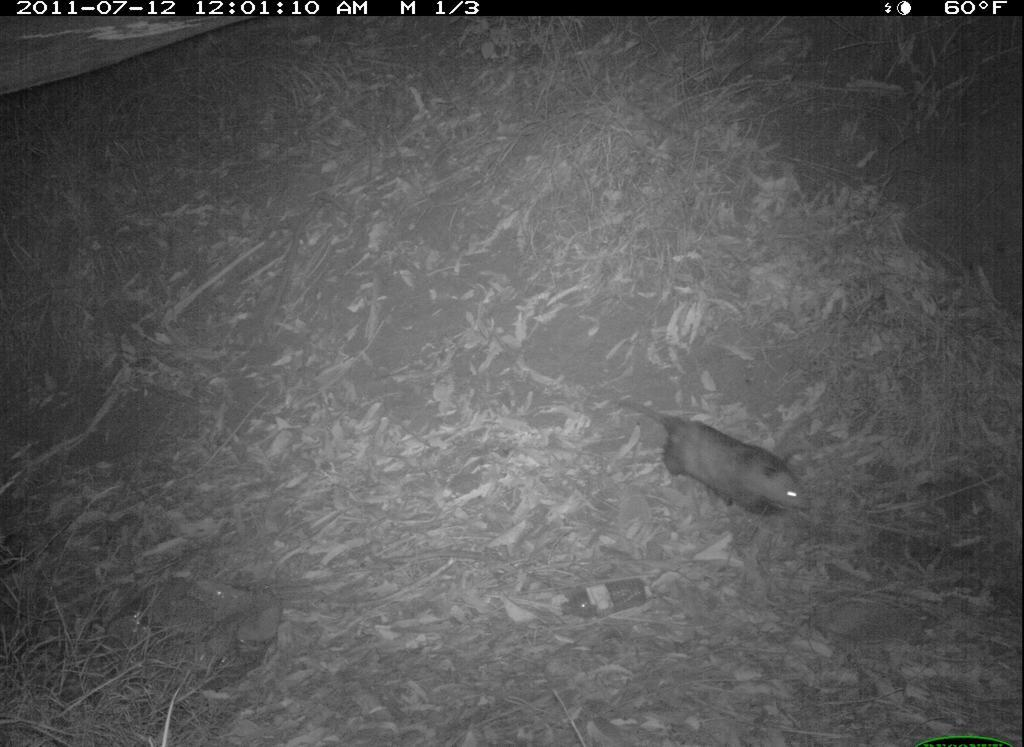opossum: (609, 393, 822, 528)
